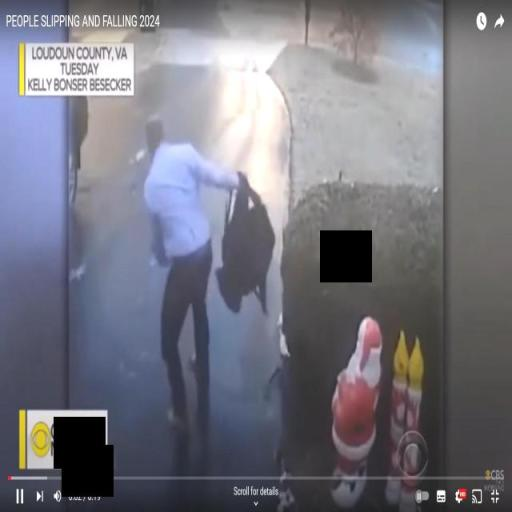Fall: (140, 105, 246, 437)
